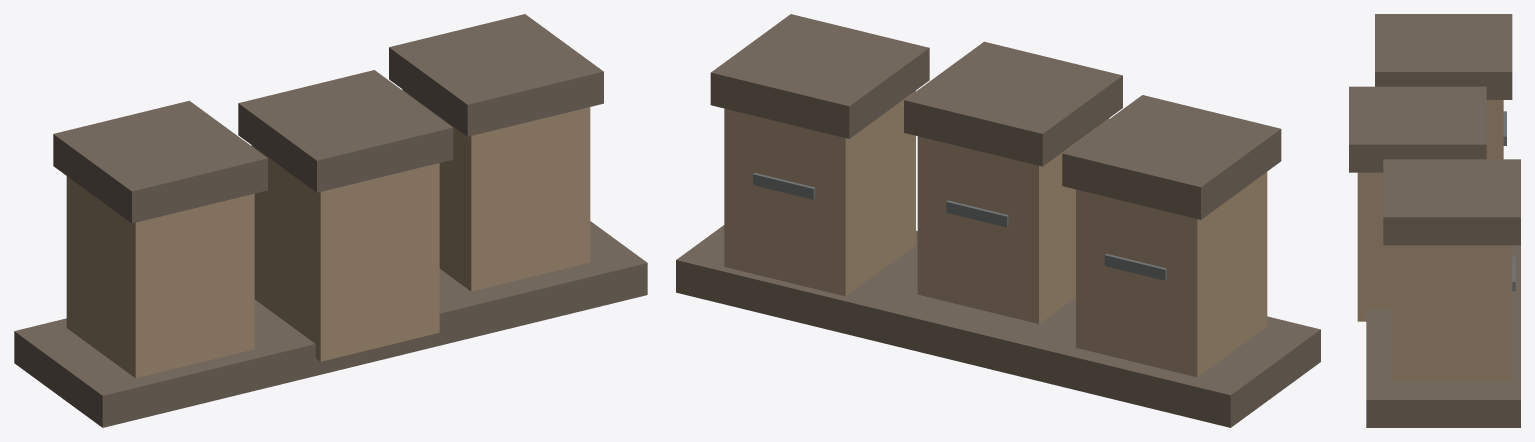
Rendered from bienenstoecke_3.glb.
3 views of the same model, side by side, from view 1: azimuth 30°, elevation 25°; view 2: azimuth 150°, elevation 25°; view 3: azimuth 270°, elevation 25° (orthographic). The views are drawn at different scales.
Visible parts, largest first — view 1: bienenstoecke_3_n4, bienenstoecke_3_n10, bienenstoecke_3_n1, bienenstoecke_3_n7, bienenstoecke_3_n5, bienenstoecke_3_n2, bienenstoecke_3_n8; view 2: bienenstoecke_3_n10, bienenstoecke_3_n1, bienenstoecke_3_n7, bienenstoecke_3_n4, bienenstoecke_3_n2, bienenstoecke_3_n8, bienenstoecke_3_n5, bienenstoecke_3_n6, bienenstoecke_3_n9, bienenstoecke_3_n3; view 3: bienenstoecke_3_n7, bienenstoecke_3_n8, bienenstoecke_3_n5, bienenstoecke_3_n2, bienenstoecke_3_n10, bienenstoecke_3_n4, bienenstoecke_3_n1.
Part boxes in pixels (<box>): bienenstoecke_3_n4: <box>251,145,439,361</box>; bienenstoecke_3_n10: <box>14,221,647,427</box>; bienenstoecke_3_n1: <box>66,176,254,378</box>; bienenstoecke_3_n7: <box>402,89,590,291</box>; bienenstoecke_3_n5: <box>238,70,453,192</box>; bienenstoecke_3_n2: <box>53,100,267,223</box>; bienenstoecke_3_n8: <box>389,14,603,136</box>; bienenstoecke_3_n10: <box>676,225,1320,427</box>; bienenstoecke_3_n1: <box>1076,172,1267,377</box>; bienenstoecke_3_n7: <box>724,90,915,296</box>; bienenstoecke_3_n4: <box>917,118,1109,323</box>; bienenstoecke_3_n2: <box>1062,95,1281,219</box>; bienenstoecke_3_n8: <box>710,14,929,138</box>; bienenstoecke_3_n5: <box>904,41,1122,166</box>; bienenstoecke_3_n6: <box>946,200,1008,227</box>; bienenstoecke_3_n9: <box>753,173,815,199</box>; bienenstoecke_3_n3: <box>1104,253,1166,280</box>; bienenstoecke_3_n7: <box>1392,245,1512,381</box>; bienenstoecke_3_n8: <box>1383,159,1520,245</box>; bienenstoecke_3_n5: <box>1349,86,1486,172</box>; bienenstoecke_3_n2: <box>1375,14,1512,99</box>; bienenstoecke_3_n10: <box>1366,245,1520,427</box>; bienenstoecke_3_n4: <box>1357,172,1391,321</box>; bienenstoecke_3_n1: <box>1486,100,1503,159</box>.
Bounding box in the file's own units: 3.2 × 1.26 × 1.
